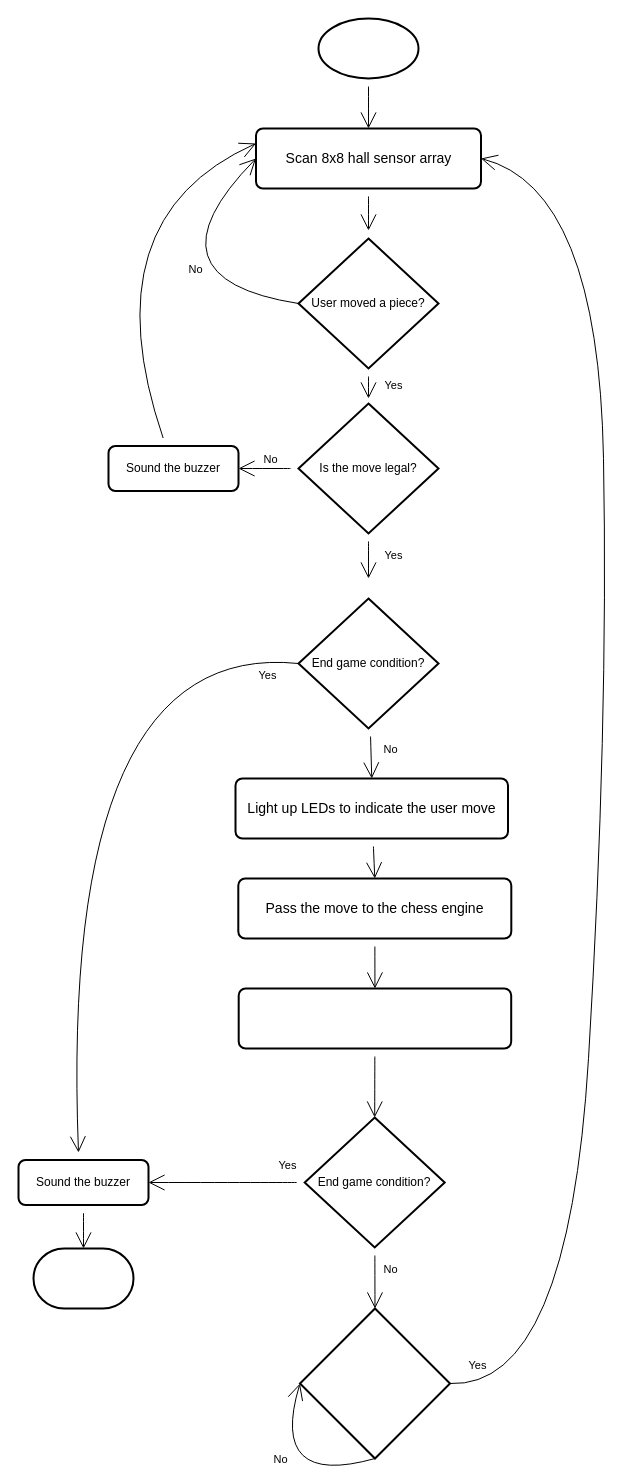
Some shapes in this 622 by 1483 pixel diagram are drawn without their labels. Each missing label, with the centre of its shape:
Light up LEDs to indicate the bot move: point (374, 1018)
Start: point (368, 48)
Stop: point (83, 1278)
User played the bot move correctly?: point (374, 1383)
